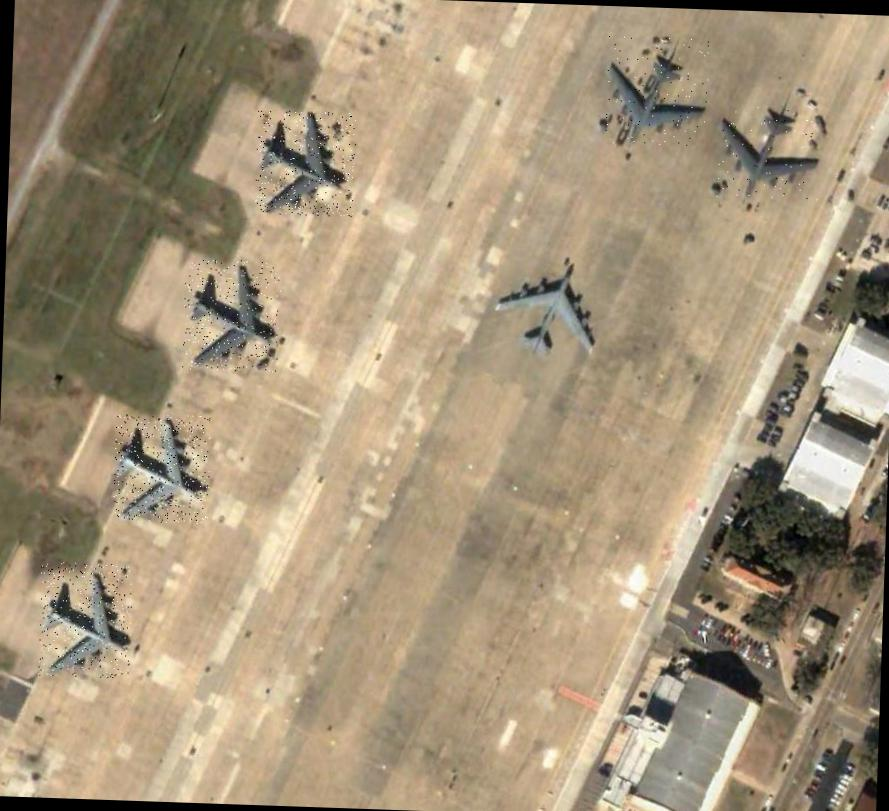A8: (487, 260, 603, 370), (603, 35, 710, 146), (181, 258, 281, 372), (36, 561, 132, 678), (112, 412, 210, 524), (254, 110, 356, 216), (714, 105, 820, 201)
